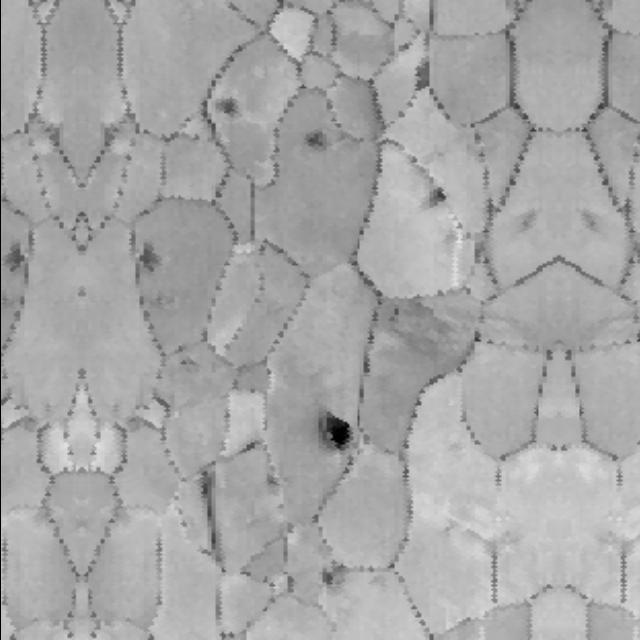good_void: (373, 288, 458, 357), (314, 404, 360, 463), (207, 88, 247, 127), (129, 234, 163, 278), (316, 557, 354, 595), (194, 463, 220, 514), (298, 123, 333, 159), (404, 63, 444, 93), (0, 234, 25, 278), (421, 182, 454, 215), (513, 205, 542, 238), (576, 207, 604, 236), (179, 357, 200, 369)
